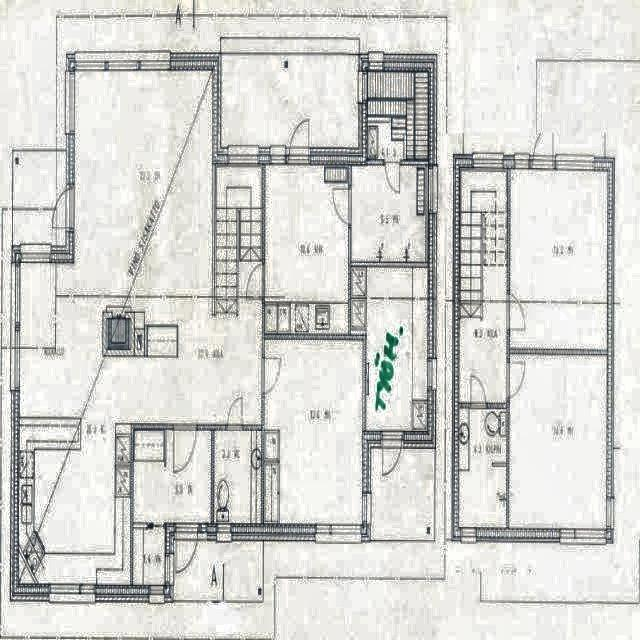room: (265, 341, 362, 523), (511, 171, 607, 348), (509, 356, 606, 528), (266, 167, 348, 333), (351, 267, 427, 431), (133, 430, 210, 586), (459, 171, 507, 402), (352, 166, 425, 262), (459, 410, 506, 527), (367, 71, 428, 160), (215, 431, 261, 523)
